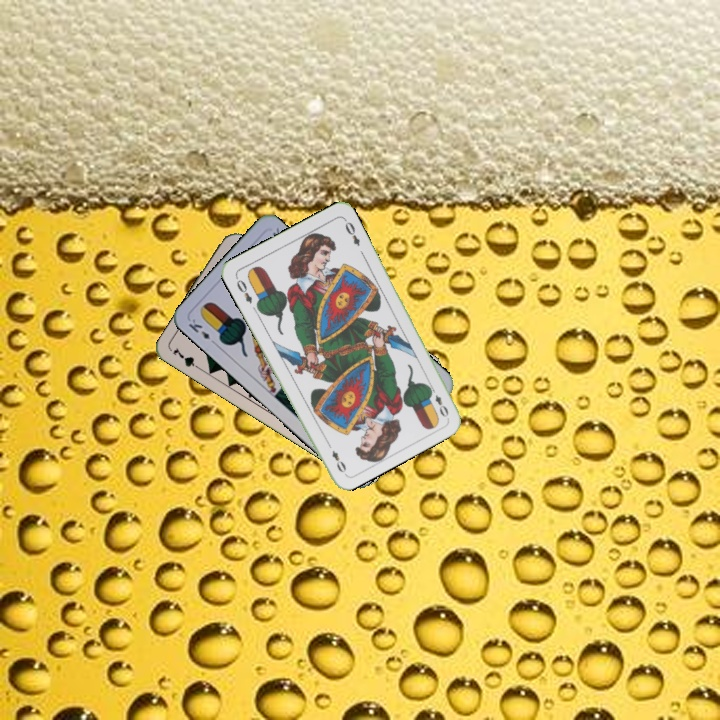EK: (184, 314, 219, 348)
EO: (425, 382, 451, 420), (232, 273, 255, 306)
G7: (168, 343, 205, 373)
